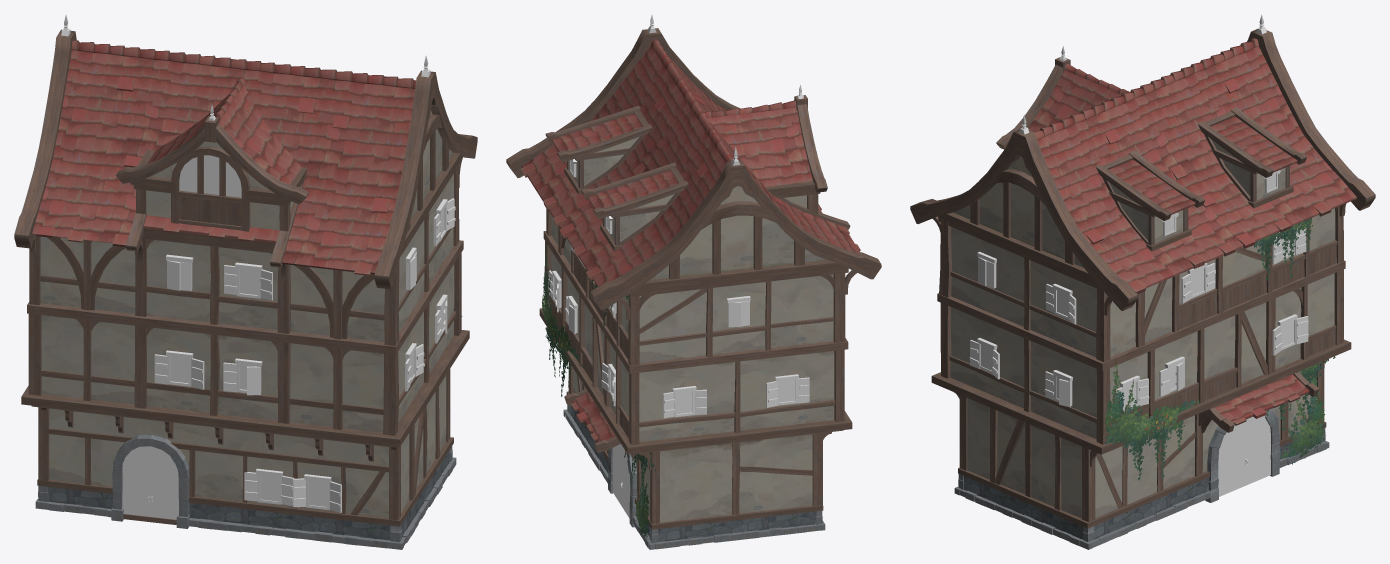
Rendered from House.fbx.
The picture shows the model from 3 angles, left to right: view 1: azimuth 30°, elevation 25°; view 2: azimuth 150°, elevation 25°; view 3: azimuth 270°, elevation 25°; orthographic projection. The views are drawn at different scales.
Parts seen in each view (by area): view 1: Mondstadt_House_Type04; view 2: Mondstadt_House_Type04; view 3: Mondstadt_House_Type04.
Part boxes in pixels (x1=…): Mondstadt_House_Type04: x1=14, y1=14, x2=477, y2=549; Mondstadt_House_Type04: x1=506, y1=14, x2=881, y2=549; Mondstadt_House_Type04: x1=910, y1=14, x2=1375, y2=549.
Size of the model in its own units: 2098 by 2071 by 2098.
